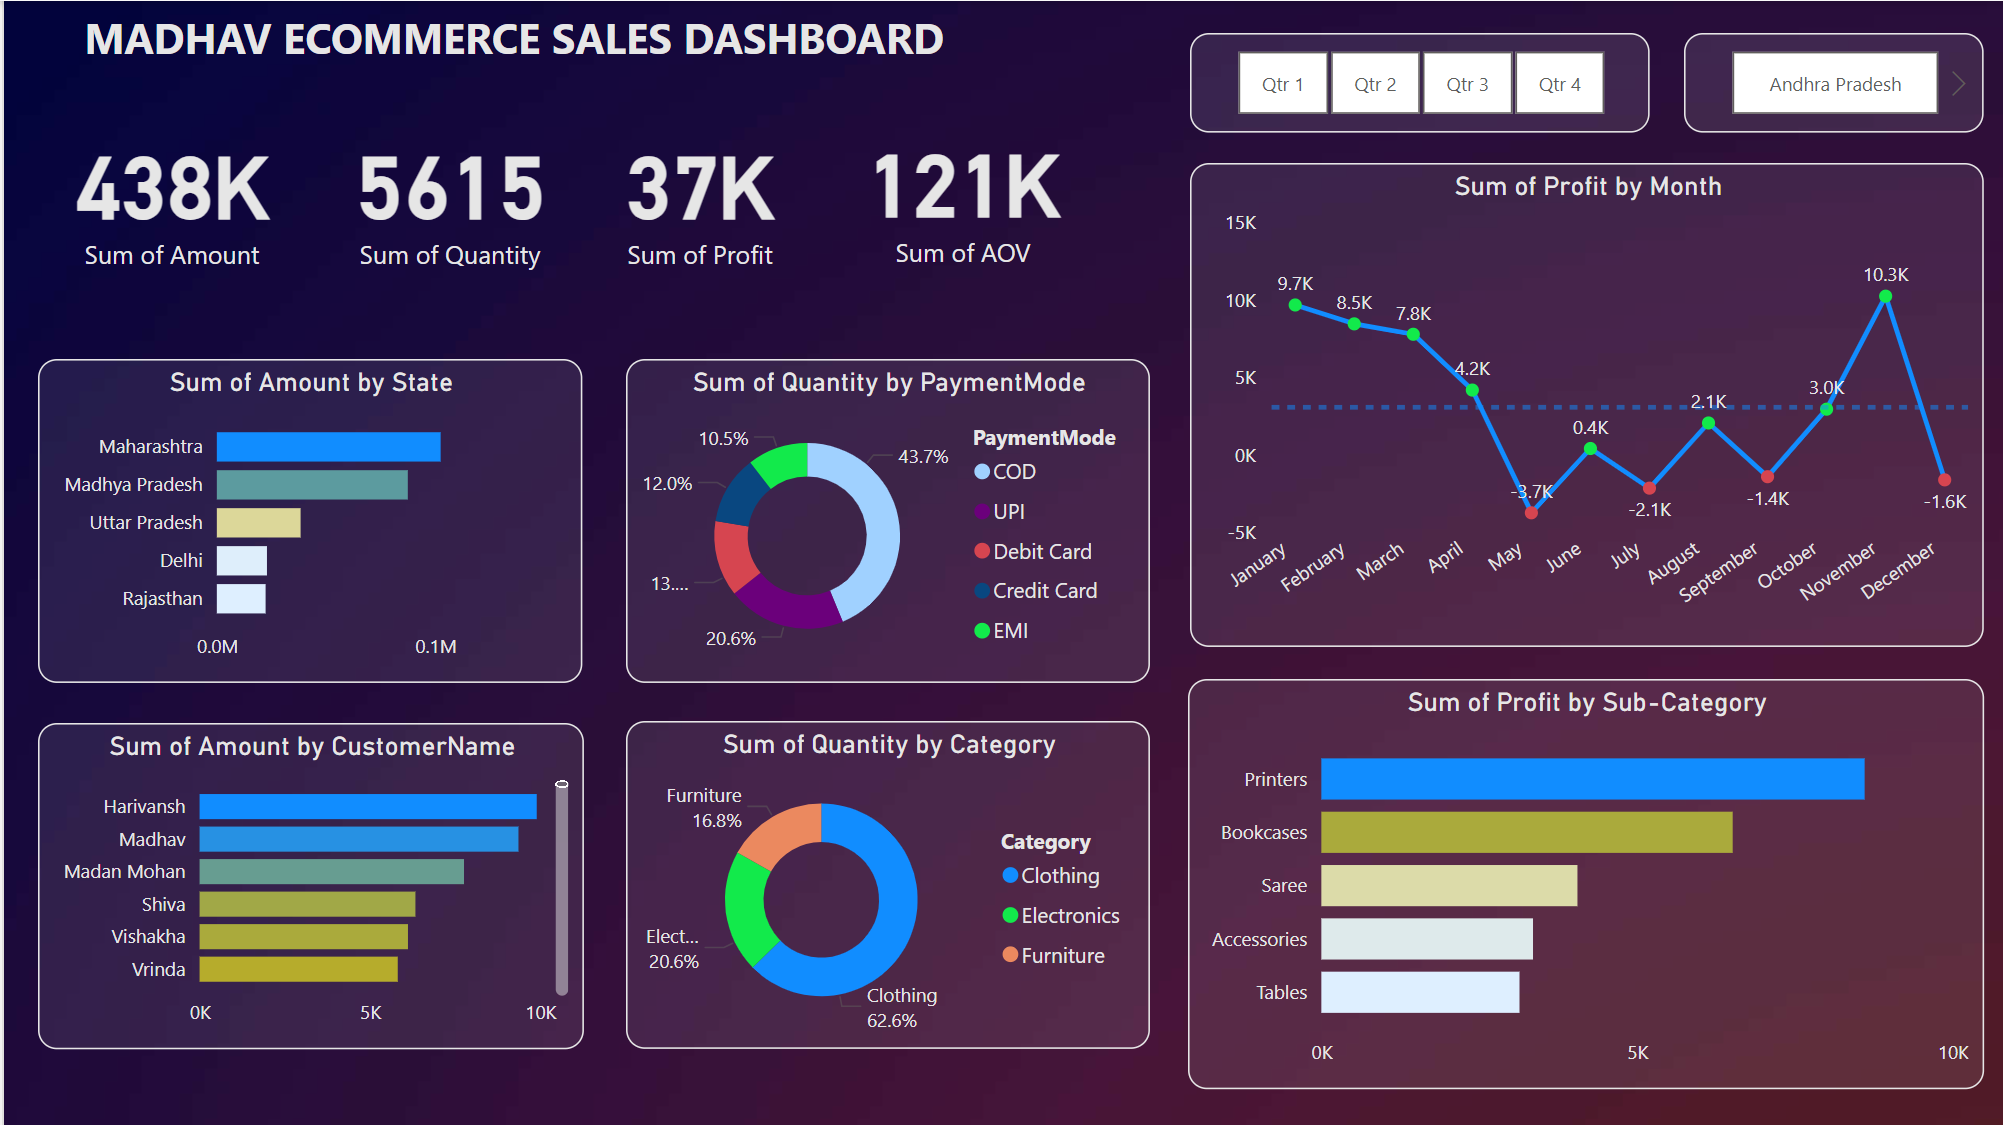

What the dashboard file says about the page in this screenshot:
{"tool":"powerbi","page":{"name":"Page 1","canvas":[1280,720],"ordinal":0},"visuals":[{"type":"textbox","box":[10.2,0,629.8,58.6],"z":0},{"type":"lineChart","fields":{"Category":["Orders.Order Date.Variation.Date Hierarchy.Year","Orders.Order Date.Variation.Date Hierarchy.Quarter","Orders.Order Date.Variation.Date Hierarchy.Month","Orders.Order Date.Variation.Date Hierarchy.Day"],"Y":["Sum(Details.Profit)"]},"box":[756,103.3,506.1,308.5],"z":1000},{"type":"barChart","fields":{"Category":["Details.Sub-Category"],"Y":["Sum(Details.Profit)"]},"box":[754.7,432.2,507.4,261.4],"z":2000},{"type":"pieChart","fields":{"Category":["Details.Category"],"Y":["Sum(Details.Quantity)"]},"box":[396.5,459,334,209.1],"z":3000},{"type":"donutChart","fields":{"Y":["Sum(Details.Quantity)"],"Category":["Details.PaymentMode"]},"box":[396.5,228.2,334,206.5],"z":4000},{"type":"card","fields":{"Values":["Sum(Details.Amount)"]},"box":[31.9,58.6,150.4,128.8],"z":5000},{"type":"card","fields":{"Values":["Sum(Details.Quantity)"]},"box":[209.1,58.6,150.4,128.8],"z":6000},{"type":"card","fields":{"Values":["Sum(Details.Profit)"]},"box":[368.4,58.6,150.4,128.8],"z":7000},{"type":"card","fields":{"Values":["Sum(Details.AOV)"]},"box":[518.9,57.4,184.9,128.8],"z":8000},{"type":"barChart","fields":{"Category":["Orders.State"],"Y":["Sum(Details.Amount)"]},"box":[21.7,228.2,346.8,206.5],"z":9000},{"type":"barChart","fields":{"Y":["Sum(Details.Amount)"],"Category":["Orders.CustomerName"]},"box":[21.7,460.2,348,207.8],"z":10000},{"type":"slicer","fields":{"Values":["Orders.Order Date.Variation.Date Hierarchy.Quarter"]},"box":[756,20.4,293.2,63.7],"z":11000},{"type":"slicer","fields":{"Values":["Orders.State"]},"box":[1070.9,20.4,191.2,63.7],"z":12000}]}

Visuals, with their boxes in screenshot pixels (x1, y1, x2, y2), scaled from the page's 1280x720 canvas onto the 2003x1125 screenshot:
textbox: bbox(16, 0, 1002, 92)
lineChart - Orders.Order Date.Variation.Date Hierarchy.Year x Orders.Order Date.Variation.Date Hierarchy.Quarter: bbox(1183, 161, 1975, 643)
barChart - Details.Sub-Category x Sum(Details.Profit): bbox(1181, 675, 1975, 1084)
pieChart - Details.Category x Sum(Details.Quantity): bbox(620, 717, 1143, 1044)
donutChart - Sum(Details.Quantity) x Details.PaymentMode: bbox(620, 357, 1143, 679)
card - Sum(Details.Amount): bbox(50, 92, 285, 293)
card - Sum(Details.Quantity): bbox(327, 92, 563, 293)
card - Sum(Details.Profit): bbox(576, 92, 812, 293)
card - Sum(Details.AOV): bbox(812, 90, 1101, 291)
barChart - Orders.State x Sum(Details.Amount): bbox(34, 357, 577, 679)
barChart - Sum(Details.Amount) x Orders.CustomerName: bbox(34, 719, 579, 1044)
slicer - Orders.Order Date.Variation.Date Hierarchy.Quarter: bbox(1183, 32, 1642, 131)
slicer - Orders.State: bbox(1676, 32, 1975, 131)
